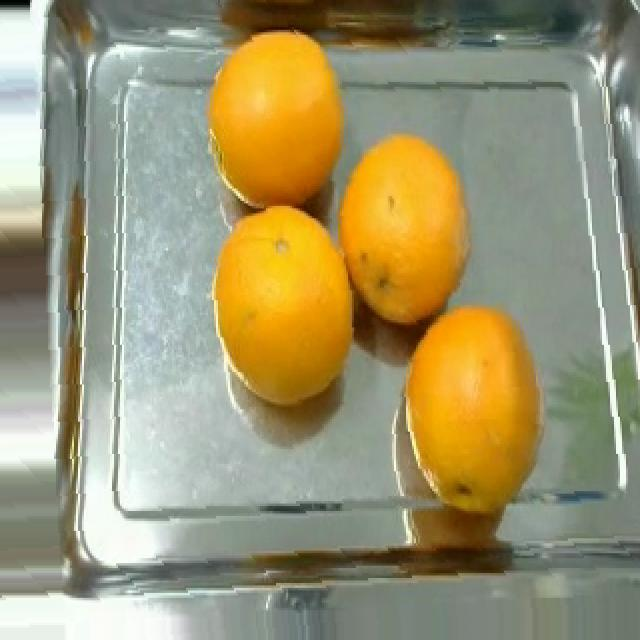Fruit: (188, 7, 350, 221), (326, 122, 480, 305)
